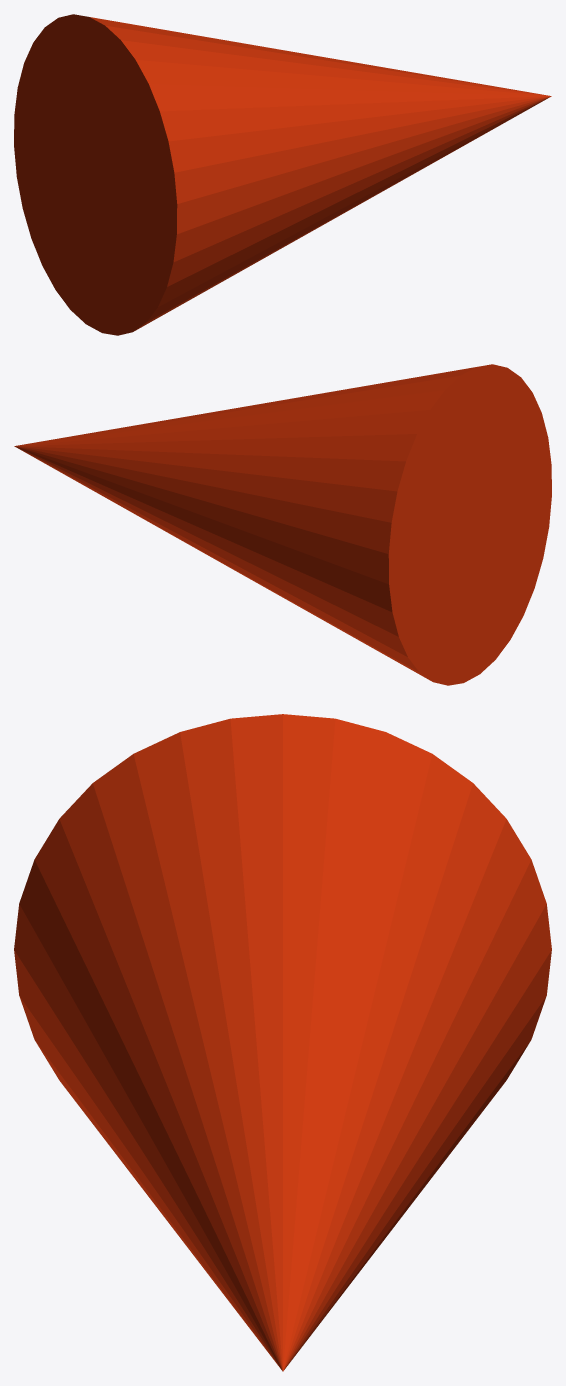
File: nose2.obj
3 views of the same model, one above another, from view 1: azimuth 30°, elevation 25°; view 2: azimuth 150°, elevation 25°; view 3: azimuth 270°, elevation 25° (orthographic). The views are drawn at different scales.
Visible parts, largest first — view 1: nose2_Cone; view 2: nose2_Cone; view 3: nose2_Cone.
Boxes of the visible parts, left/top/right/bottom form: nose2_Cone: left=14, top=14, right=551, bottom=335; nose2_Cone: left=14, top=364, right=551, bottom=685; nose2_Cone: left=14, top=714, right=551, bottom=1371.
Bounding box in the file's own units: 0.5422 × 0.3269 × 0.3277.
